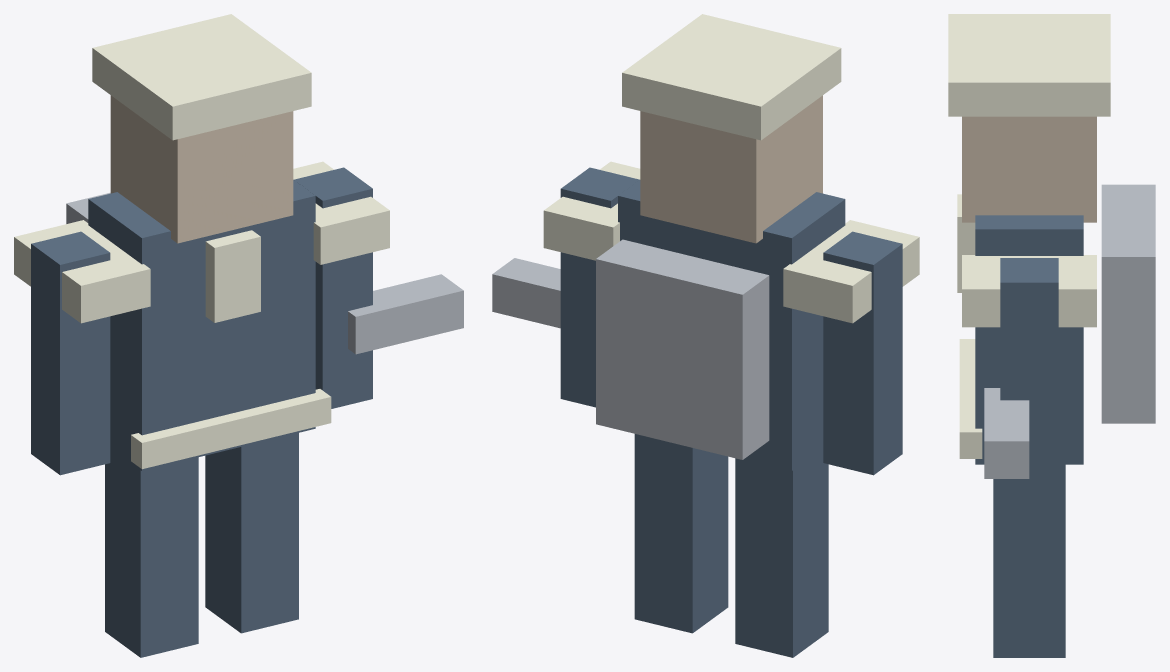
File: 12_yara_wayfare_courier_from_orbital.glb
3 views of the same model, side by side, from view 1: azimuth 30°, elevation 25°; view 2: azimuth 150°, elevation 25°; view 3: azimuth 270°, elevation 25° (orthographic).
Parts seen in each view (by area): view 1: Yara Wayfare, Courier from Orbital; view 2: Yara Wayfare, Courier from Orbital; view 3: Yara Wayfare, Courier from Orbital.
Boxes of the visible parts, x1,y1,x2,y2 form: Yara Wayfare, Courier from Orbital: (14, 14, 463, 657); Yara Wayfare, Courier from Orbital: (492, 14, 919, 657); Yara Wayfare, Courier from Orbital: (948, 14, 1155, 657).
Size of the model in its own units: 1.03 by 1.4 by 0.4601.
